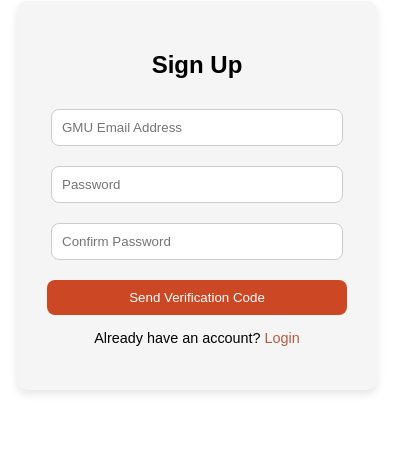
Scenario: SignUpForm Component › shows an error when passwords do not match
Type "user@gmu.edu" into the field with placeholder "GMU Email Address".
click(197, 127); type("user@gmu.edu")  # box [51,109,343,146]
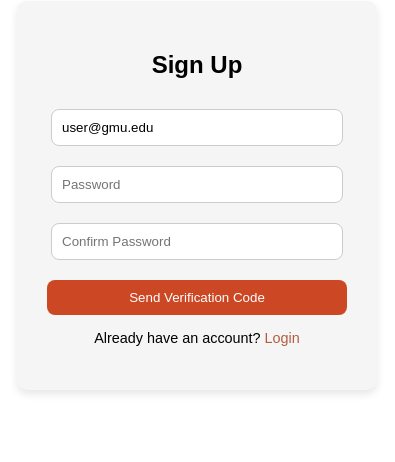
Type "password123" into the password field with placeholder "Password".
click(197, 184); type("password123")  # box [51,166,343,203]
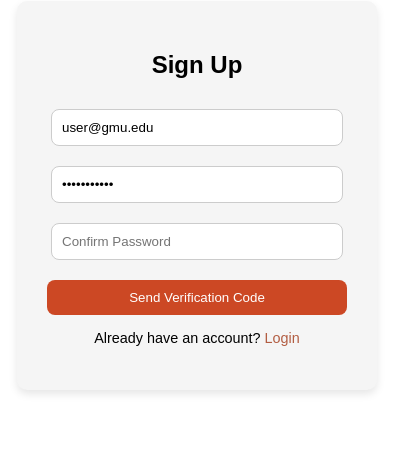
Type "password456" into the password field with placeholder "Confirm Password".
click(197, 241); type("password456")  # box [51,223,343,260]
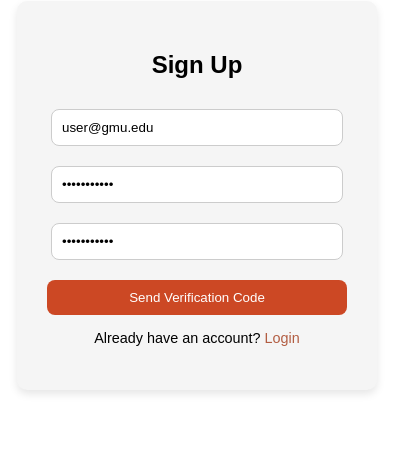
Click the button "Send Verification Code".
click(197, 297)  # box [47,280,347,315]
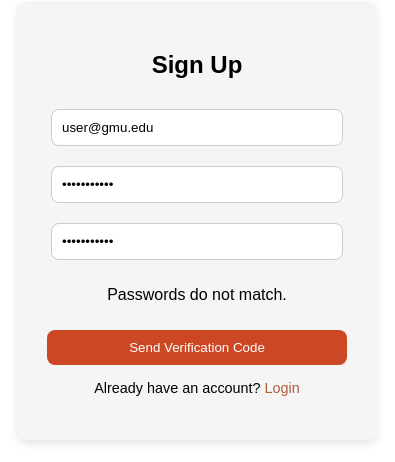
Expected: the text "Passwords do not match." is shown, [107,286,287,303]
